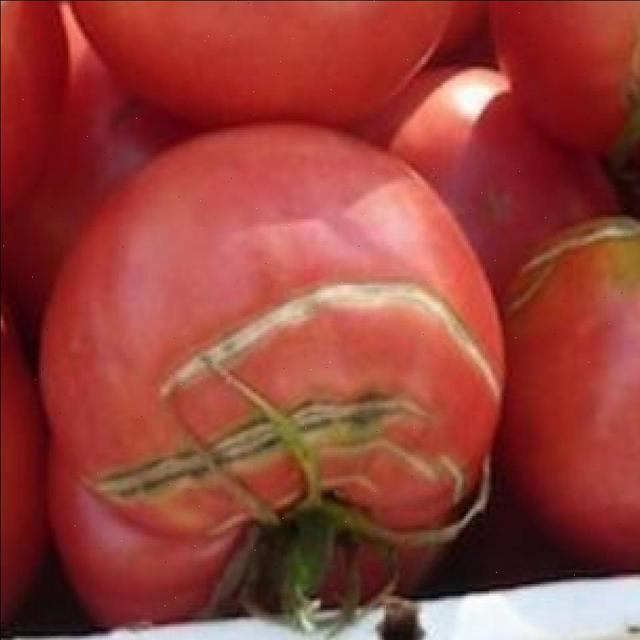Cracking Fruit: (16, 60, 381, 334)
